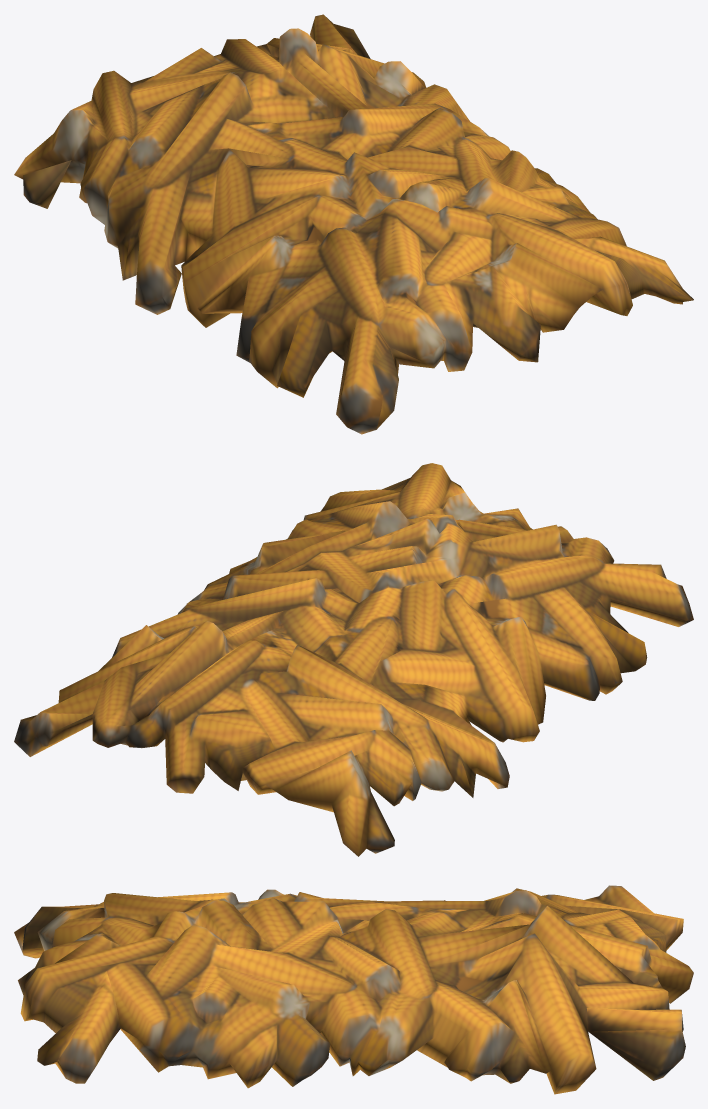
File: maizeInBox.fbx
The picture shows the model from 3 angles, top to bottom: view 1: azimuth 30°, elevation 25°; view 2: azimuth 150°, elevation 25°; view 3: azimuth 270°, elevation 25°; orthographic projection. The views are drawn at different scales.
Parts seen in each view (by area): view 1: maizeInBox; view 2: maizeInBox; view 3: maizeInBox.
Boxes of the visible parts, left/top/right/bottom form: maizeInBox: left=14, top=14, right=693, bottom=434; maizeInBox: left=14, top=463, right=693, bottom=856; maizeInBox: left=14, top=885, right=693, bottom=1094.
Size of the model in its own units: 54.58 by 24.22 by 90.66.
